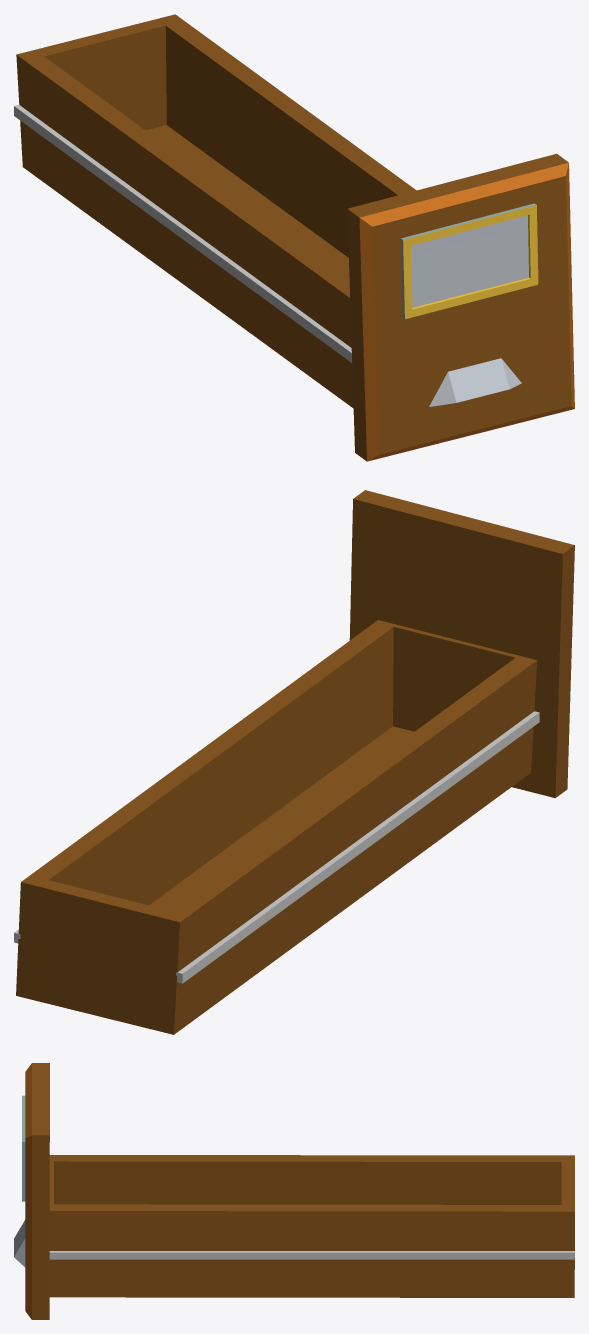
Rendered from CubbyHoles_drawer.fbx.
3 views of the same model, one above another, from view 1: azimuth 30°, elevation 25°; view 2: azimuth 150°, elevation 25°; view 3: azimuth 270°, elevation 25° (orthographic). The views are drawn at different scales.
Parts seen in each view (by area): view 1: Drawer1.003; view 2: Drawer1.003; view 3: Drawer1.003.
Part boxes in pixels (box(x1,y1,x2,y2)): Drawer1.003: box(14, 14, 574, 461); Drawer1.003: box(14, 490, 574, 1034); Drawer1.003: box(14, 1063, 574, 1319).
Bounding box in the file's own units: 0.2055 × 0.2276 × 0.6292.
